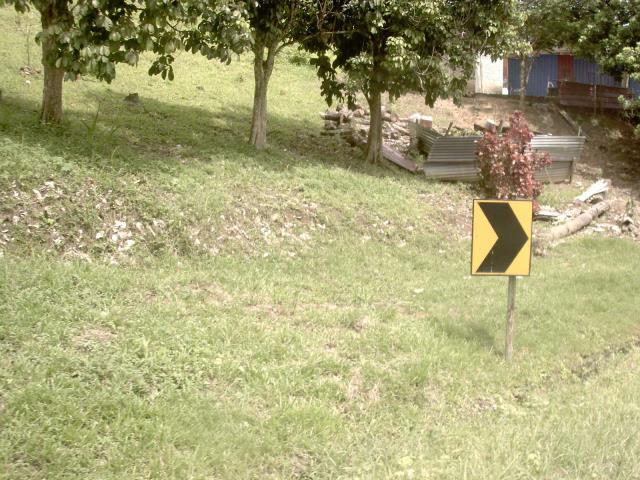traffic_sign: (463, 190, 543, 287)
